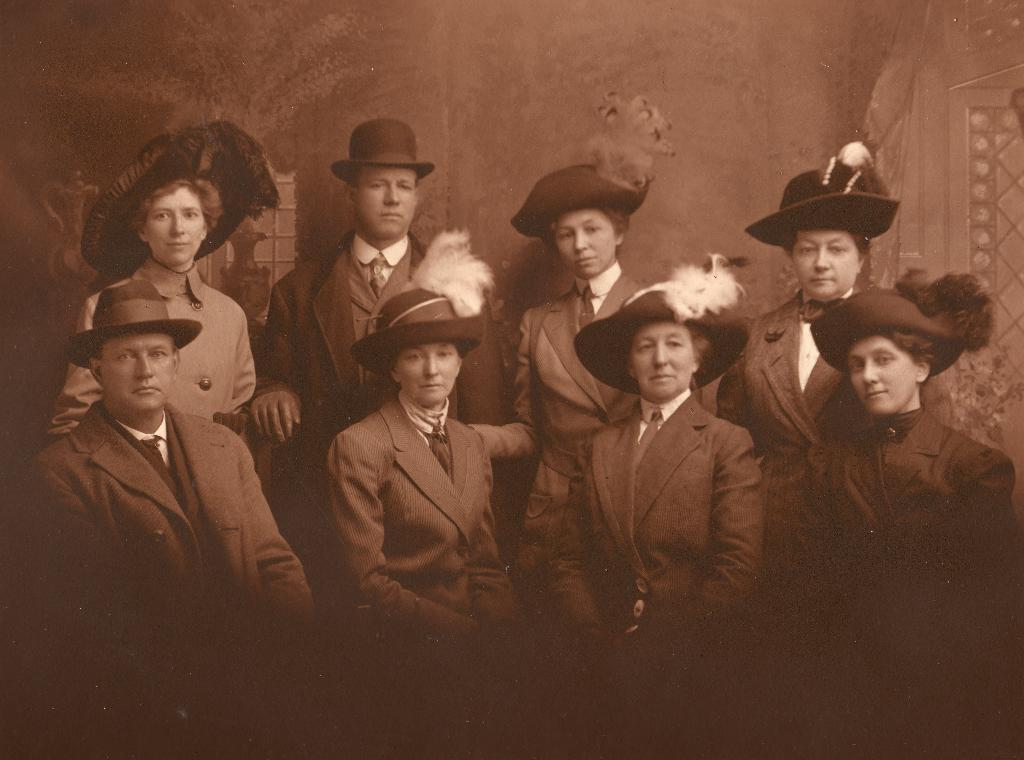Hat: (79, 118, 277, 284), (571, 248, 750, 396), (349, 226, 487, 378), (807, 268, 994, 380), (744, 140, 904, 249), (512, 139, 654, 240), (62, 280, 202, 372), (332, 116, 432, 190)
